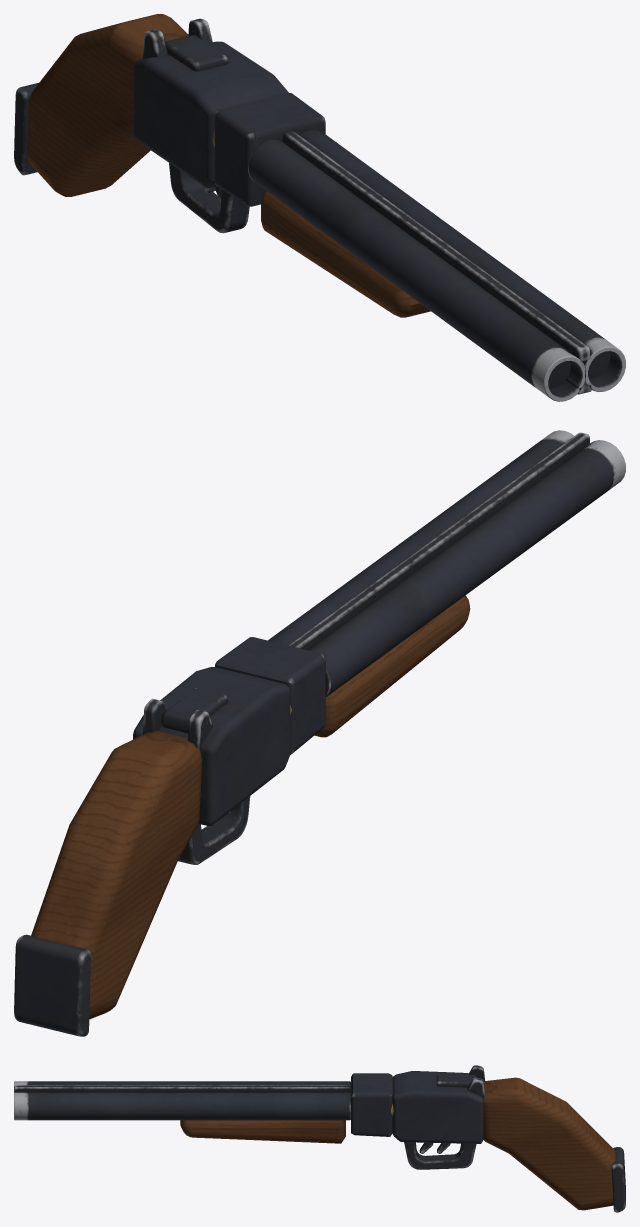
Rendered from pistol_sawedoff.glb.
3 renders of one model, top to bottom at view 1: azimuth 30°, elevation 25°; view 2: azimuth 150°, elevation 25°; view 3: azimuth 270°, elevation 25°, orthographic. The views are drawn at different scales.
Parts seen in each view (by area): view 1: bolt_mesh, body; view 2: body, bolt_mesh; view 3: body, bolt_mesh.
Boxes of the visible parts, <box> form: bolt_mesh: <box>214,93,625,401</box>; body: <box>14,14,288,233</box>; body: <box>14,667,290,1036</box>; bolt_mesh: <box>215,430,625,755</box>; body: <box>392,1065,625,1212</box>; bolt_mesh: <box>14,1073,392,1143</box>.
Size of the model in its own units: 0.044 by 0.1187 by 0.4978.
Materials: 1 (1 with a texture image).
